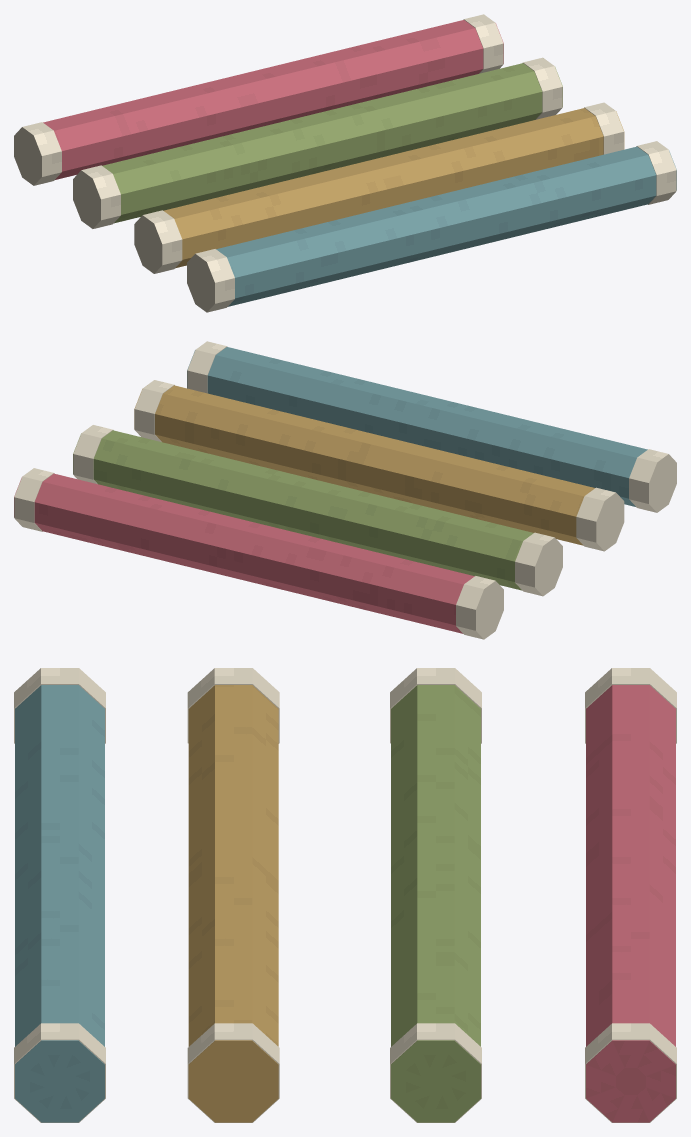
File: powder_candy.glb
3 renders of one model, top to bottom at view 1: azimuth 30°, elevation 25°; view 2: azimuth 150°, elevation 25°; view 3: azimuth 270°, elevation 25°, orthographic. The views are drawn at different scales.
Parts seen in each view (by area): view 1: block_paper candy stick (×4), block_sealed tip (×8); view 2: block_paper candy stick (×4), block_sealed tip (×8); view 3: block_paper candy stick (×4), block_sealed tip (×8).
Boxes of the visible parts, box(x1,y1,x2,y2) form: block_paper candy stick (×4): box(43, 20, 676, 306); block_sealed tip (×8): box(14, 14, 676, 312); block_paper candy stick (×4): box(14, 347, 647, 633); block_sealed tip (×8): box(14, 341, 676, 639); block_paper candy stick (×4): box(15, 685, 675, 1122); block_sealed tip (×8): box(14, 668, 676, 1122).
Size of the model in its own units: 0.1179 by 0.0123 by 0.0888.
Materials: 1 (1 with a texture image).
